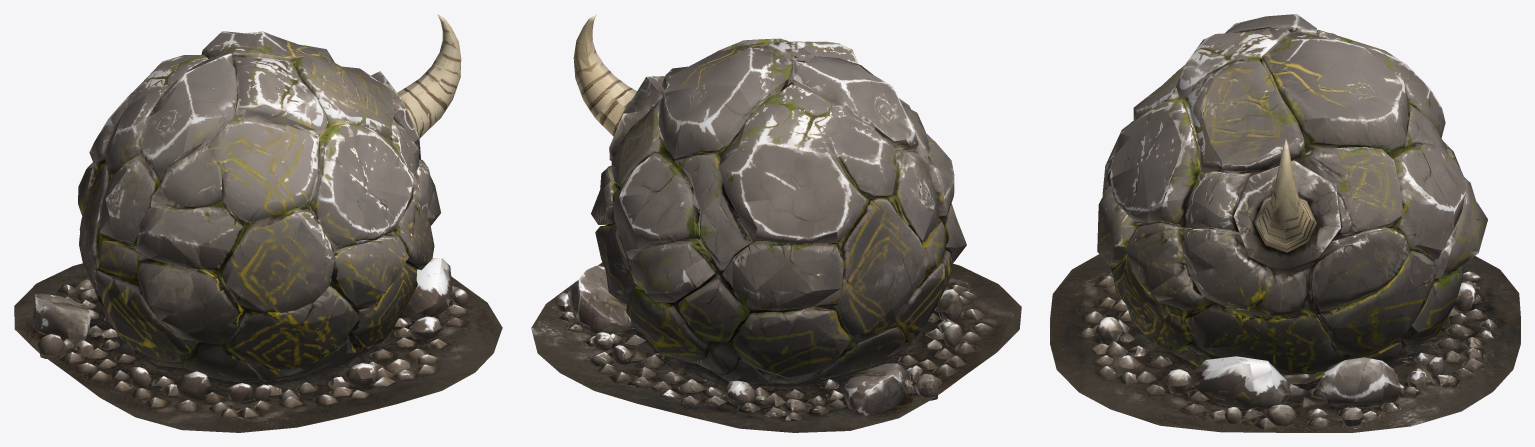
Rendered from ball_meshy.glb.
3 views of the same model, side by side, from view 1: azimuth 30°, elevation 25°; view 2: azimuth 150°, elevation 25°; view 3: azimuth 270°, elevation 25° (orthographic). The views are drawn at different scales.
Bounding box in the file's own units: 2 × 1.5 × 2.
Materials: 1 (1 with a texture image).
